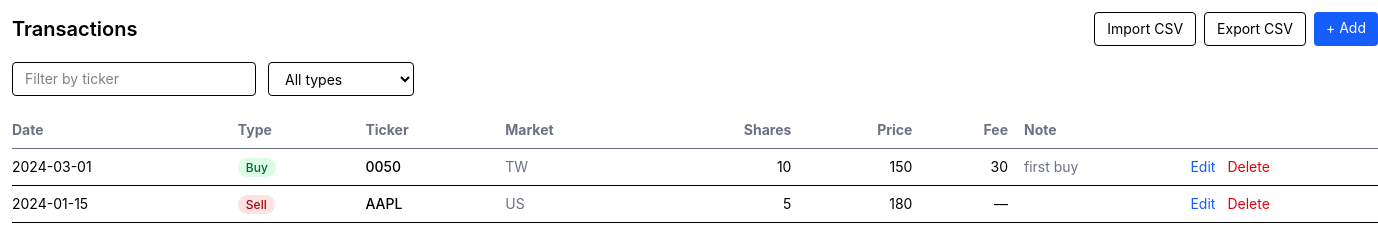
Test: TransactionList › filters by ticker (case-insensitive)
Expected: the text "0050" is shown, [365,148,505,186]
Type "aapl" into the field labelled "Filter by ticker".
click(134, 79); type("aapl")  # box [12,62,256,96]
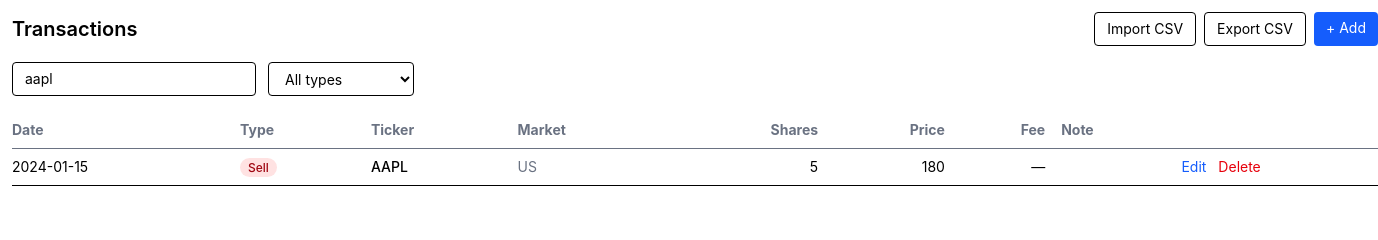
Expected: the text "AAPL" is shown, [371,148,518,186]
Now the text "0050" is gone
